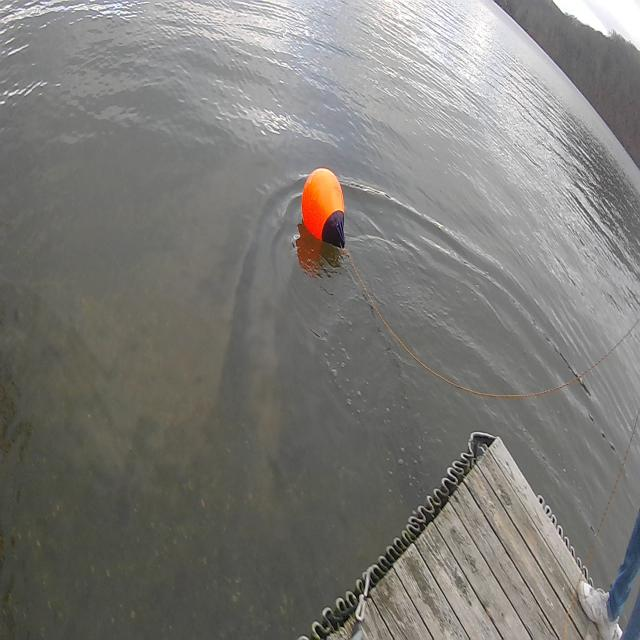Buoy: (297, 162, 355, 259)
